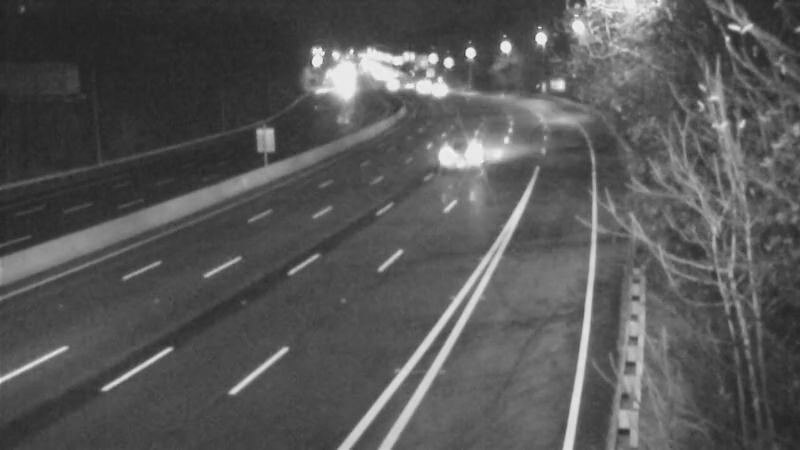vehicle: (425, 114, 505, 194), (413, 67, 463, 117)
